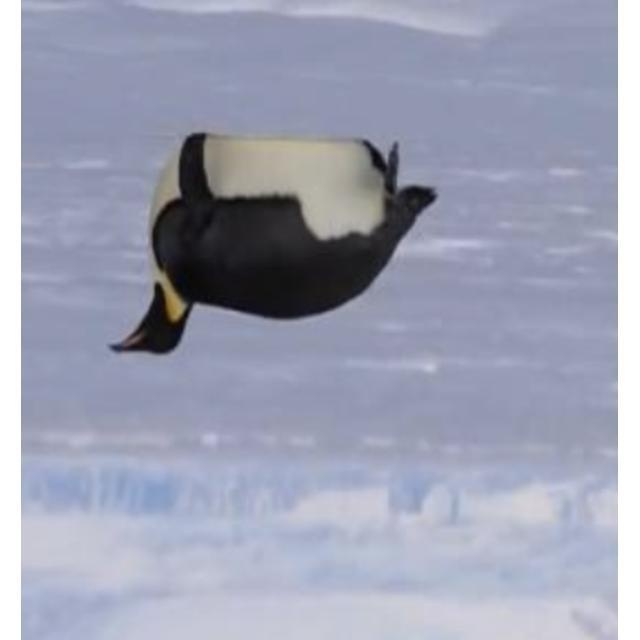penguin: (105, 133, 440, 359)
